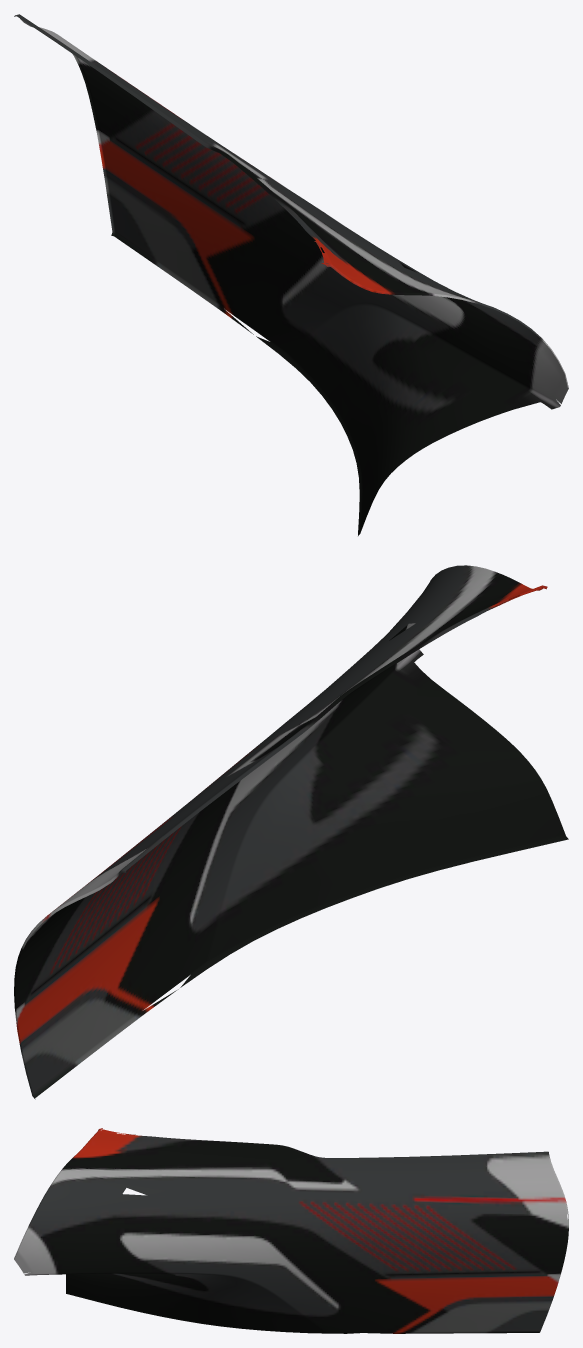
Rendered from door_lf.glb.
3 renders of one model, top to bottom at view 1: azimuth 30°, elevation 25°; view 2: azimuth 150°, elevation 25°; view 3: azimuth 270°, elevation 25°, orthographic. The views are drawn at different scales.
Parts seen in each view (by area): view 1: amgprojone_door_L.001_amgprojone_paint_0.001; view 2: amgprojone_door_L.001_amgprojone_paint_0.001; view 3: amgprojone_door_L.001_amgprojone_paint_0.001.
Part boxes in pixels (bbox=[...]): amgprojone_door_L.001_amgprojone_paint_0.001: bbox=[14, 14, 568, 535]; amgprojone_door_L.001_amgprojone_paint_0.001: bbox=[14, 565, 568, 1099]; amgprojone_door_L.001_amgprojone_paint_0.001: bbox=[14, 1128, 568, 1333].
Size of the model in its own units: 0.315 by 0.4278 by 1.32.
Materials: 1 (1 with a texture image).
